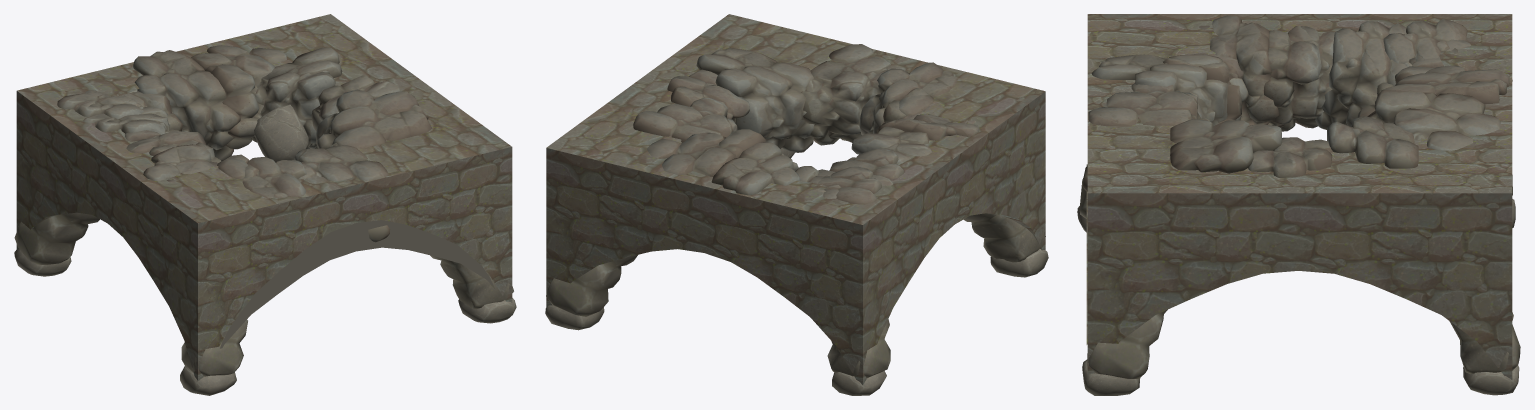
The model's file is SM_FW01_Ruins_Int_Ceiling_A_4x4_02.fbx.
3 views of the same model, side by side, from view 1: azimuth 30°, elevation 25°; view 2: azimuth 150°, elevation 25°; view 3: azimuth 270°, elevation 25° (orthographic). The views are drawn at different scales.
Visible parts, largest first — view 1: SM_FW01_Ruins_Int_Ceiling_A_4x4_02, SM_FW01_Ruins_Int_Ceiling_A_4x4_02_LOD0; view 2: SM_FW01_Ruins_Int_Ceiling_A_4x4_02, SM_FW01_Ruins_Int_Ceiling_A_4x4_02_LOD0; view 3: SM_FW01_Ruins_Int_Ceiling_A_4x4_02, SM_FW01_Ruins_Int_Ceiling_A_4x4_02_LOD0.
Part boxes in pixels (bbox=[...]): SM_FW01_Ruins_Int_Ceiling_A_4x4_02: bbox=[16, 14, 512, 380]; SM_FW01_Ruins_Int_Ceiling_A_4x4_02_LOD0: bbox=[14, 45, 516, 395]; SM_FW01_Ruins_Int_Ceiling_A_4x4_02: bbox=[546, 14, 1045, 384]; SM_FW01_Ruins_Int_Ceiling_A_4x4_02_LOD0: bbox=[545, 44, 1048, 395]; SM_FW01_Ruins_Int_Ceiling_A_4x4_02: bbox=[1086, 14, 1512, 379]; SM_FW01_Ruins_Int_Ceiling_A_4x4_02_LOD0: bbox=[1077, 15, 1520, 395].
Size of what is drawn, in the model's own units: 4.16 by 2.34 by 4.17.
